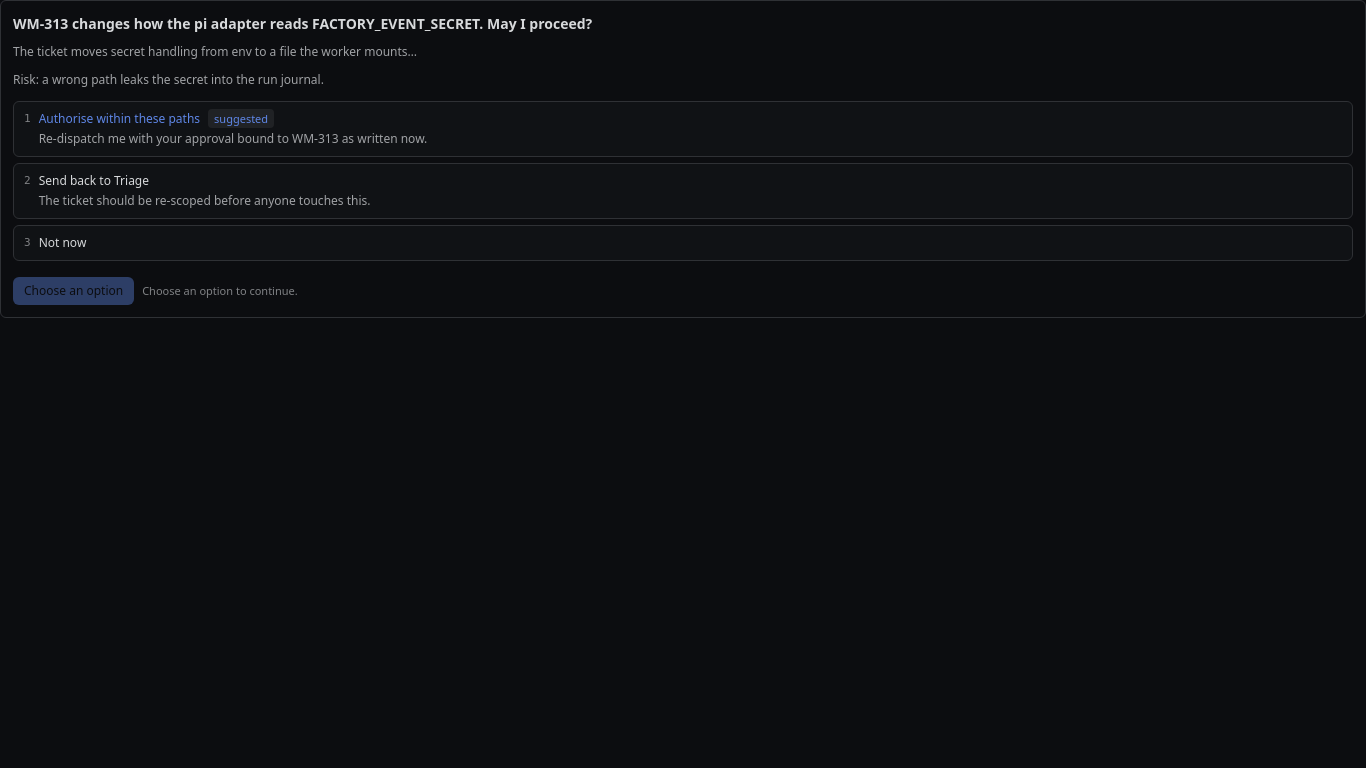
Test case: DecisionCard › posts the response contract then refetches before rendering the record
This screenshot has width=1366, height=768.
Click the button that starts with "Authorise within these paths": (119, 118) [13, 101, 1353, 157]
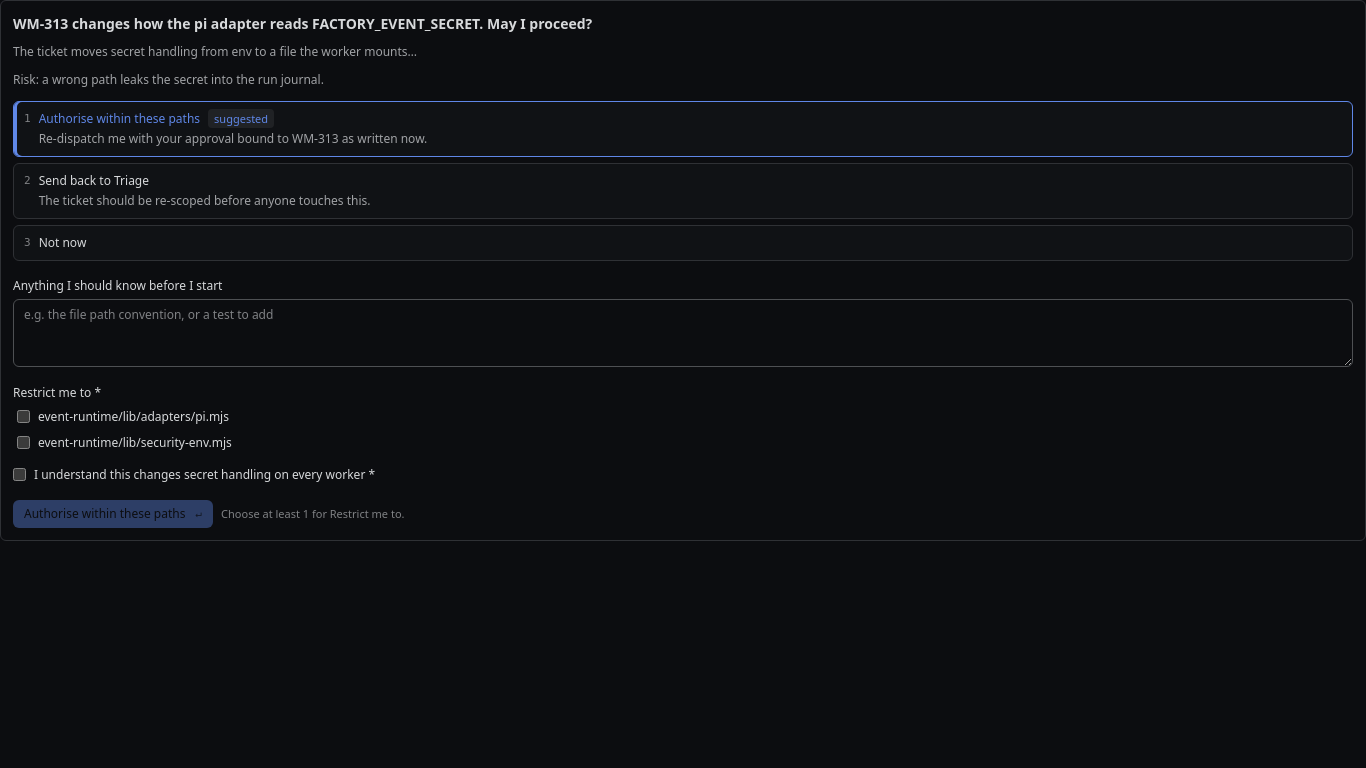
Click the checkbox labelled "event-runtime/lib/adapters/pi.mjs": (24, 416) [17, 410, 30, 423]
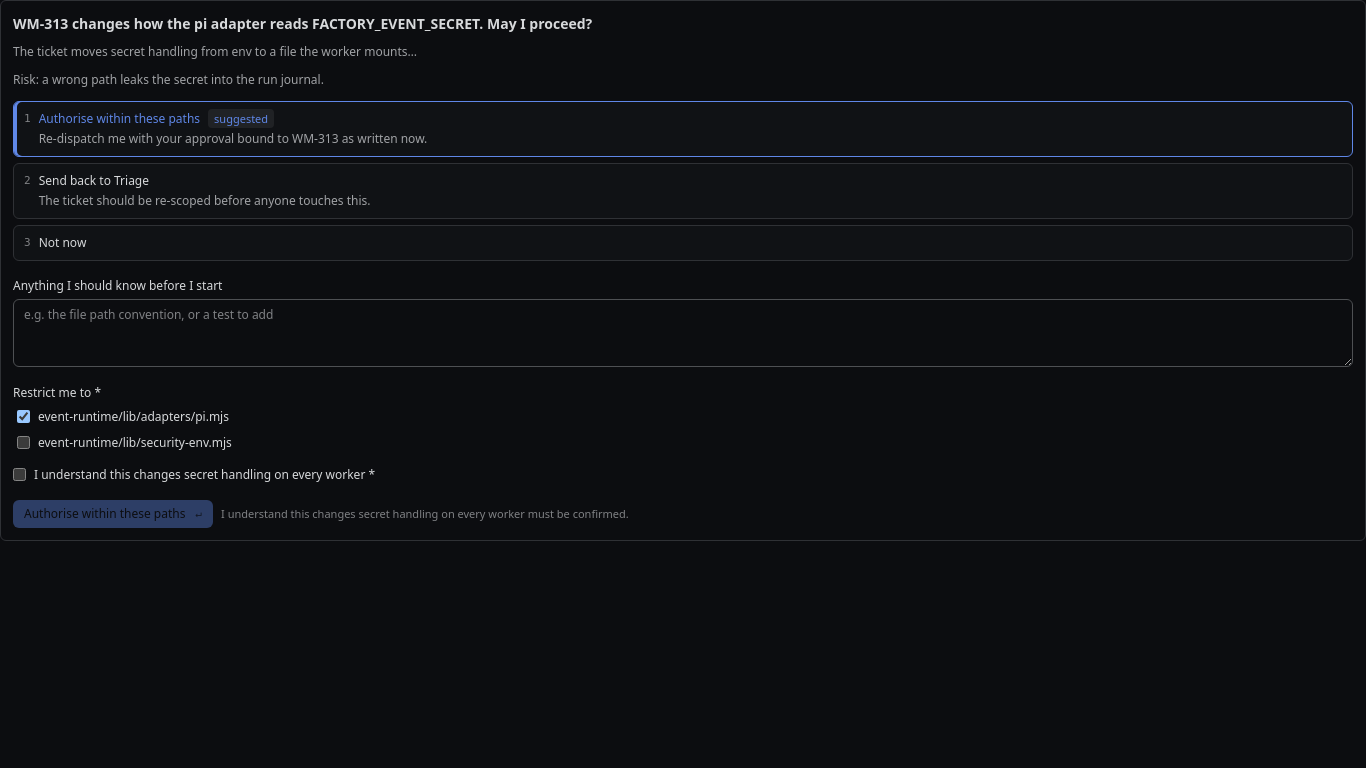
Click the checkbox labelled "I understand this changes secret handling on every worker *": (20, 474) [13, 468, 26, 481]
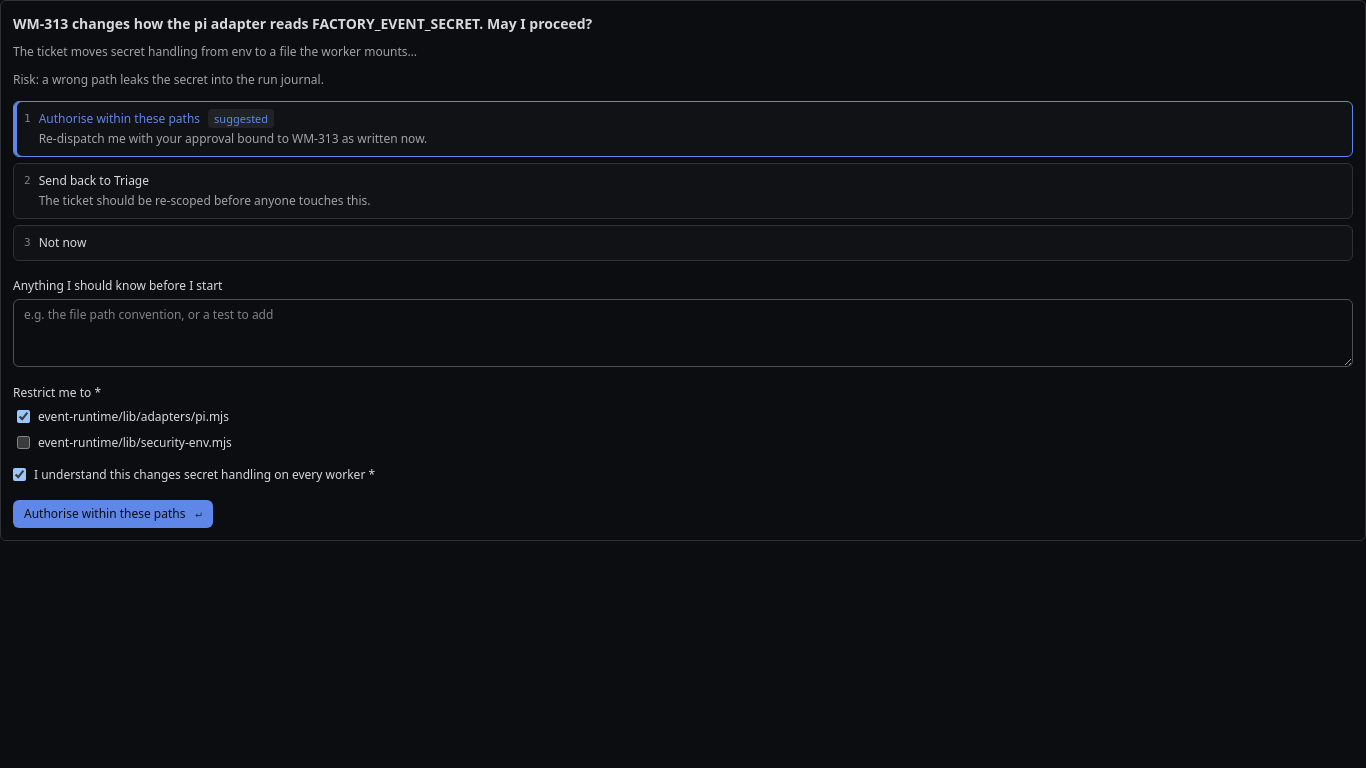
Click the button "Authorise within these paths ↵": (113, 514) [13, 500, 213, 528]
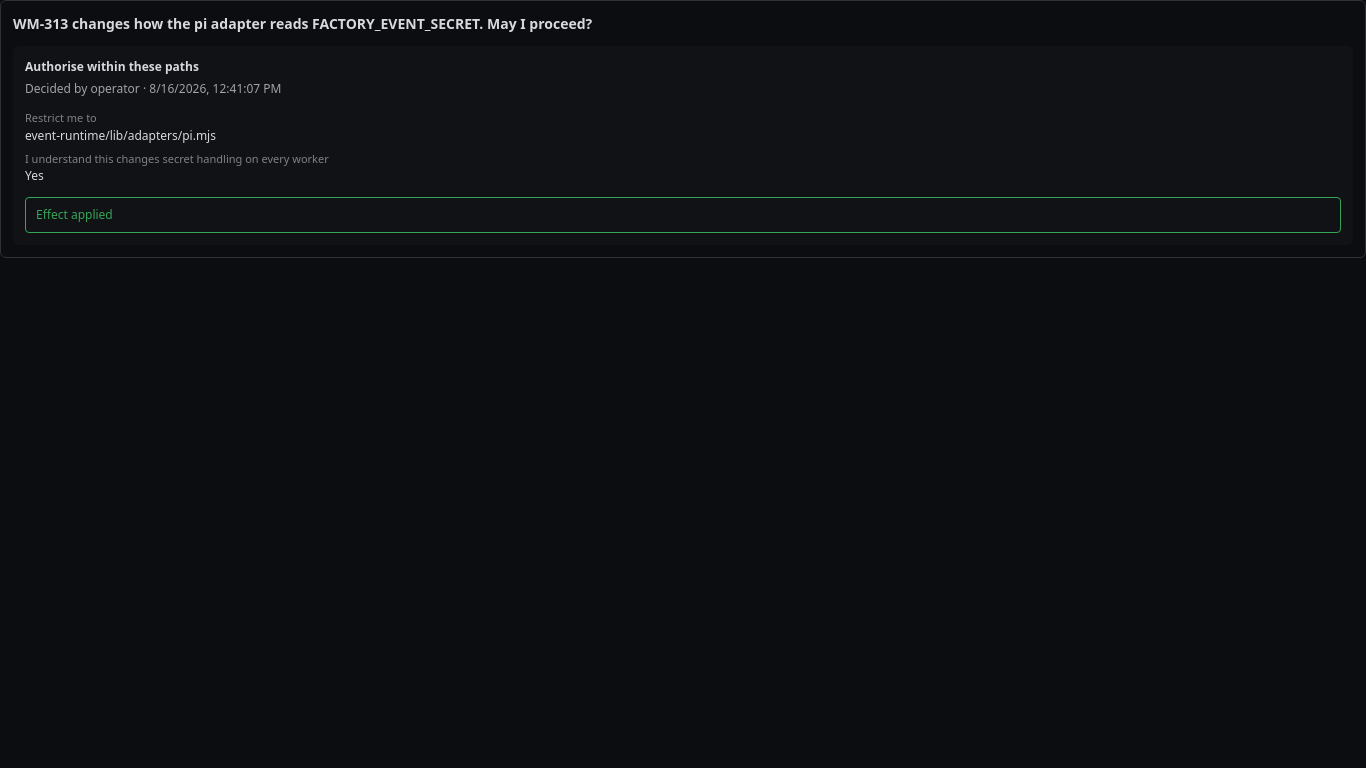
Expected: the element named "Decision record" is shown, [0, 0, 1365, 258]
Expected: the text "Effect applied" is shown, [25, 197, 1341, 233]
